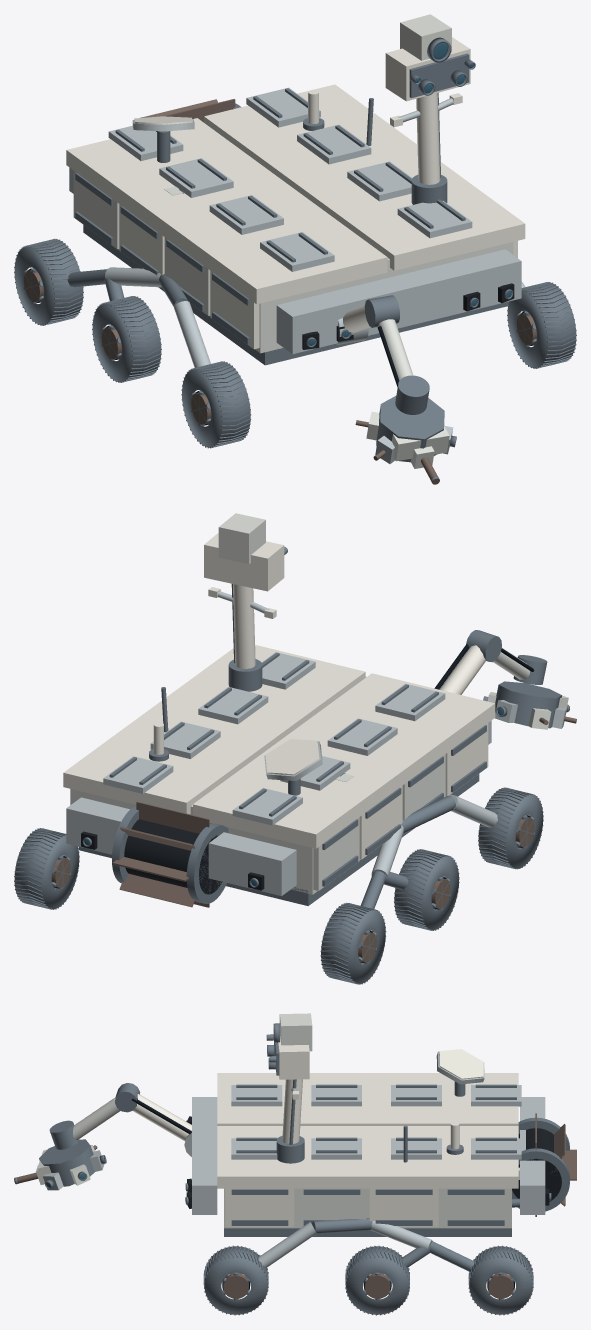
The model's file is perseverance_rover.glb.
3 renders of one model, top to bottom at view 1: azimuth 30°, elevation 25°; view 2: azimuth 150°, elevation 25°; view 3: azimuth 270°, elevation 25°, orthographic. The views are drawn at different scales.
Parts seen in each view (by area): view 1: perseverance_bodydeckmesh_Warm_white_enamel, perseverance_bodydeckmesh_Satin_aluminum, perseverance_bodyfront_equipmentmesh_Satin_aluminum, perseverance_bodymesh_Pale_thermal_blanket, perseverance_bodymesh_Machined_steel, perseverance_mobilityrocker_leftbogieaxle_middlewheel_middle, perseverance_mobilityrocker_leftsteer_frontwheel_frontrimmes, perseverance_mobilityrocker_rightsteer_frontwheel_frontrimme, perseverance_mobilityrocker_leftbogiesteer_rearwheel_rearrim, perseverance_bodymesh_Warm_white_enamel, perseverance_bodydeckmesh_Machined_steel, perseverance_turretmesh_Machined_steel (+11 smaller); view 2: perseverance_bodydeckmesh_Warm_white_enamel, perseverance_bodydeckmesh_Satin_aluminum, perseverance_bodyrear_equipmentmesh_Satin_aluminum, perseverance_bodymesh_Pale_thermal_blanket, perseverance_mobilityrocker_leftbogiesteer_rearwheel_rearrim, perseverance_mobilityrocker_rightbogiesteer_rearwheel_rearri, perseverance_power_commsmmrtgmesh_Heat-stained_alloy, perseverance_mobilityrocker_leftbogieaxle_middlewheel_middle, perseverance_mobilityrocker_leftsteer_frontwheel_frontrimmes, perseverance_bodymesh_Machined_steel, perseverance_power_commsmmrtgmesh_Carbon_composite, perseverance_bodymesh_Warm_white_enamel (+13 smaller); view 3: perseverance_bodydeckmesh_Warm_white_enamel, perseverance_bodydeckmesh_Satin_aluminum, perseverance_bodymesh_Pale_thermal_blanket, perseverance_bodymesh_Machined_steel, perseverance_bodymesh_Warm_white_enamel, perseverance_mobilityrocker_rightbogiesteer_rearwheel_rearri (×2), perseverance_mobilityrocker_rightbogieaxle_middlewheel_middl (×2), perseverance_mobilityrocker_rightsteer_frontwheel_frontrimme (×2), perseverance_bodyfront_equipmentmesh_Satin_aluminum, perseverance_bodydeckmesh_Machined_steel, perseverance_bodyrear_equipmentmesh_Satin_aluminum, perseverance_mobilityrocker_rightmesh_Satin_aluminum (+14 smaller).
Part boxes in pixels (<box>): perseverance_bodydeckmesh_Warm_white_enamel: <box>66,84,525,304</box>; perseverance_bodydeckmesh_Satin_aluminum: <box>108,87,472,271</box>; perseverance_bodyfront_equipmentmesh_Satin_aluminum: <box>276,249,521,354</box>; perseverance_bodymesh_Pale_thermal_blanket: <box>73,171,513,353</box>; perseverance_bodymesh_Machined_steel: <box>75,173,508,365</box>; perseverance_mobilityrocker_leftbogieaxle_middlewheel_middle: <box>92,296,161,382</box>; perseverance_mobilityrocker_leftsteer_frontwheel_frontrimmes: <box>181,361,251,448</box>; perseverance_mobilityrocker_rightsteer_frontwheel_frontrimme: <box>507,282,576,368</box>; perseverance_mobilityrocker_leftbogiesteer_rearwheel_rearrim: <box>14,238,83,325</box>; perseverance_bodymesh_Warm_white_enamel: <box>119,204,517,349</box>; perseverance_bodydeckmesh_Machined_steel: <box>115,88,465,262</box>; perseverance_turretmesh_Machined_steel: <box>376,396,444,462</box>; perseverance_bodydeckmesh_Warm_white_enamel: <box>63,645,495,848</box>; perseverance_bodydeckmesh_Satin_aluminum: <box>103,652,445,825</box>; perseverance_bodyrear_equipmentmesh_Satin_aluminum: <box>66,797,296,895</box>; perseverance_bodymesh_Pale_thermal_blanket: <box>70,754,445,894</box>; perseverance_mobilityrocker_leftbogiesteer_rearwheel_rearrim: <box>320,902,386,984</box>; perseverance_mobilityrocker_rightbogiesteer_rearwheel_rearri: <box>14,828,79,909</box>; perseverance_power_commsmmrtgmesh_Heat-stained_alloy: <box>112,801,212,907</box>; perseverance_mobilityrocker_leftbogieaxle_middlewheel_middle: <box>394,849,459,930</box>; perseverance_mobilityrocker_leftsteer_frontwheel_frontrimmes: <box>478,787,543,869</box>; perseverance_bodymesh_Machined_steel: <box>79,725,486,905</box>; perseverance_power_commsmmrtgmesh_Carbon_composite: <box>124,819,222,894</box>; perseverance_bodymesh_Warm_white_enamel: <box>359,723,488,859</box>; perseverance_bodydeckmesh_Warm_white_enamel: <box>217,1073,518,1188</box>; perseverance_bodydeckmesh_Satin_aluminum: <box>231,1085,521,1159</box>; perseverance_bodymesh_Pale_thermal_blanket: <box>224,1188,511,1228</box>; perseverance_bodymesh_Machined_steel: <box>224,1189,511,1236</box>; perseverance_bodymesh_Warm_white_enamel: <box>225,1188,438,1226</box>; perseverance_mobilityrocker_rightbogiesteer_rearwheel_rearri (×2): <box>468,1245,533,1315</box>; perseverance_mobilityrocker_rightbogieaxle_middlewheel_middl (×2): <box>345,1245,409,1315</box>; perseverance_mobilityrocker_rightsteer_frontwheel_frontrimme (×2): <box>203,1245,268,1315</box>; perseverance_bodyfront_equipmentmesh_Satin_aluminum: <box>192,1097,217,1214</box>; perseverance_bodydeckmesh_Machined_steel: <box>236,1084,516,1153</box>; perseverance_bodyrear_equipmentmesh_Satin_aluminum: <box>520,1097,545,1214</box>; perseverance_mobilityrocker_rightmesh_Satin_aluminum: <box>258,1221,432,1267</box>.
Size of the model in its own units: 2.72 by 2.37 by 4.65.
